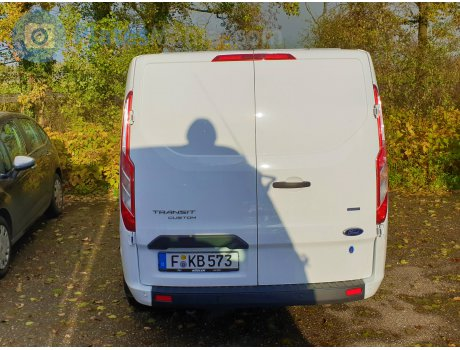License Plates: (166, 251, 235, 268)
